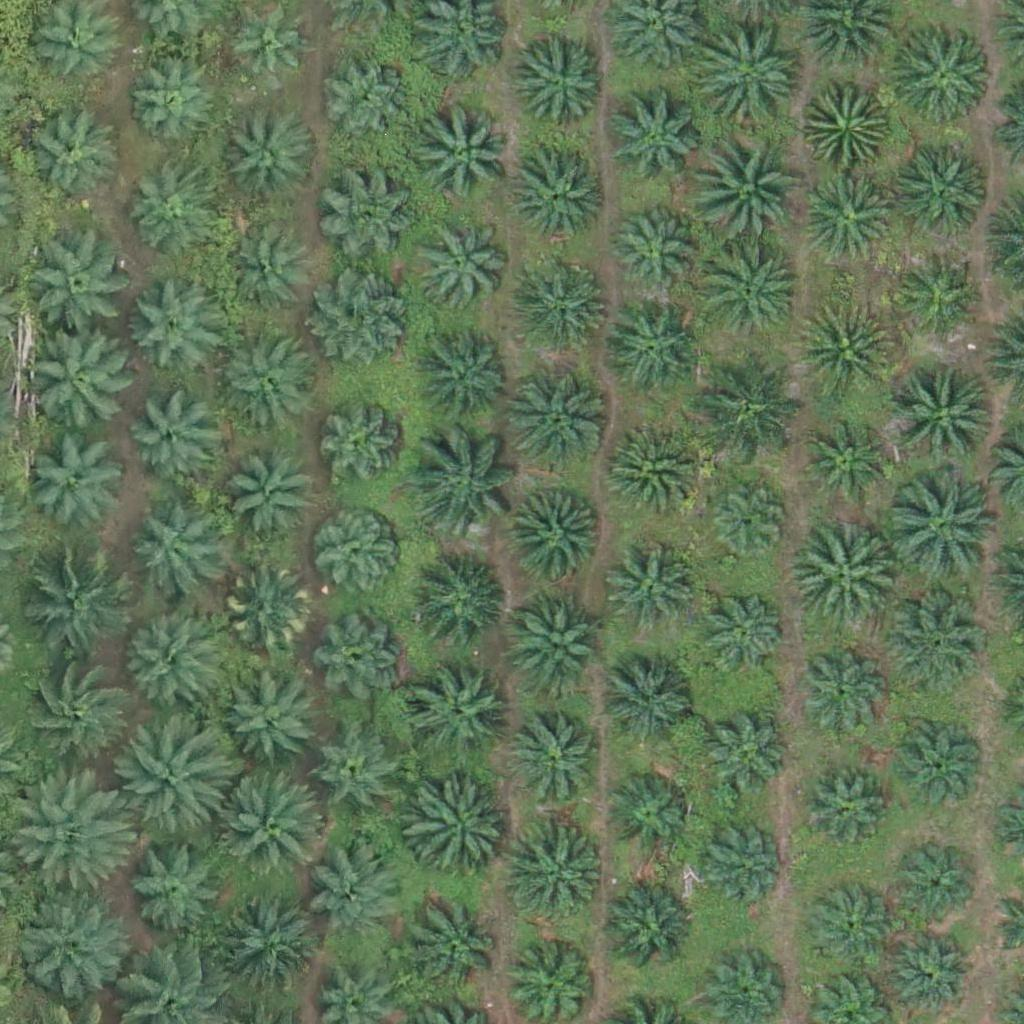Kelapa_Sawit: (21, 327, 134, 441), (885, 475, 998, 588), (411, 431, 524, 544), (696, 347, 809, 460), (696, 22, 809, 135), (120, 727, 232, 841), (21, 551, 133, 665), (891, 360, 1003, 474), (785, 519, 897, 632), (217, 773, 329, 886), (13, 886, 125, 999), (13, 771, 125, 884), (17, 658, 129, 771), (695, 236, 807, 349), (690, 126, 802, 239), (882, 592, 982, 693), (599, 421, 699, 522), (601, 650, 701, 751), (597, 882, 697, 983), (507, 826, 607, 927), (411, 554, 511, 655), (407, 666, 507, 767), (407, 782, 507, 883), (222, 671, 322, 772), (121, 832, 221, 933), (33, 432, 133, 533), (18, 110, 118, 211), (33, 235, 133, 336), (217, 330, 317, 431), (317, 163, 417, 264), (315, 267, 415, 368), (418, 102, 518, 203), (411, 217, 511, 318), (415, 326, 515, 427), (509, 369, 609, 470), (508, 145, 608, 246), (601, 89, 701, 190), (604, 301, 704, 402), (794, 300, 894, 401), (893, 144, 993, 245), (892, 20, 992, 121), (506, 488, 606, 588), (507, 593, 607, 693), (409, 898, 509, 998), (310, 842, 410, 942), (217, 898, 317, 998), (116, 614, 216, 714), (124, 273, 224, 373), (516, 256, 616, 356), (511, 32, 611, 132), (707, 478, 795, 566), (696, 585, 784, 673), (700, 713, 788, 801), (693, 815, 781, 903), (795, 763, 883, 851), (893, 718, 981, 806), (609, 546, 697, 634), (126, 392, 214, 480), (127, 508, 215, 596), (125, 63, 213, 151), (227, 107, 315, 195), (322, 57, 410, 145), (805, 170, 893, 258), (801, 421, 889, 509), (899, 245, 987, 333), (806, 882, 893, 970), (797, 646, 884, 734), (891, 843, 978, 931), (892, 927, 979, 1015), (605, 768, 692, 856), (514, 712, 601, 800), (317, 406, 404, 494), (314, 515, 401, 603), (317, 614, 404, 702), (314, 731, 401, 819), (224, 567, 311, 655), (223, 452, 310, 540), (124, 170, 211, 258), (222, 228, 309, 316), (611, 203, 698, 291), (803, 78, 890, 166)
